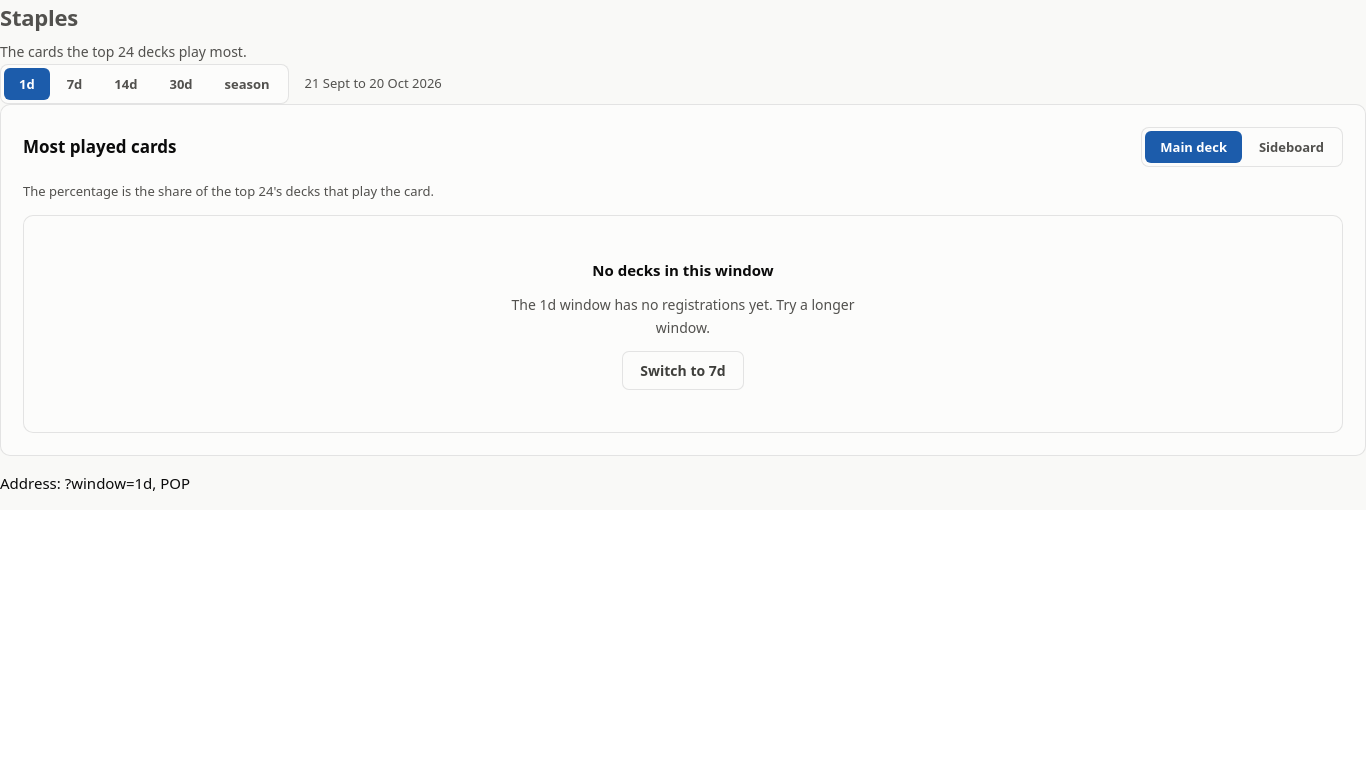
Scenario: StaplesPage › does not judge the next window empty from the previous one while it loads
Click the button "Switch to 7d".
click(683, 371)  # box [622,351,744,390]
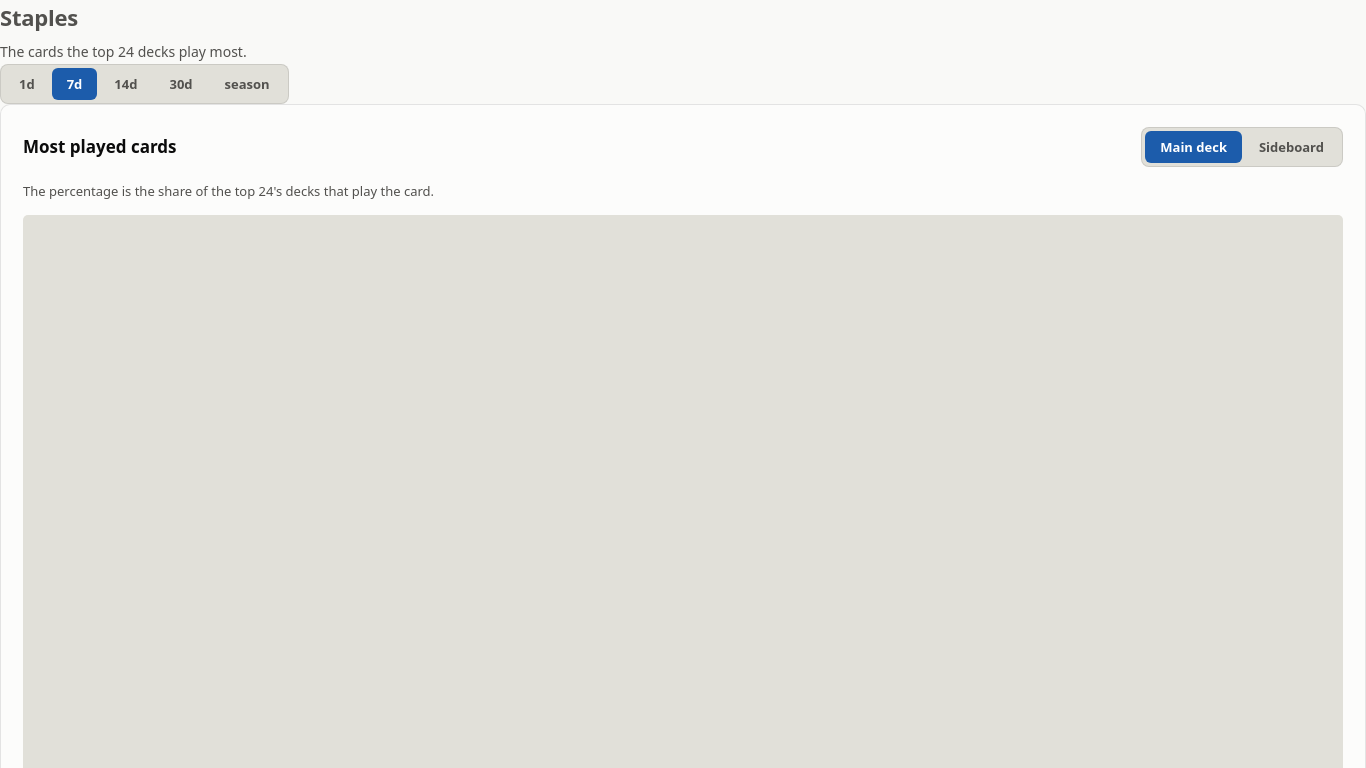
Expected: the heading "No decks in this window" is gone
